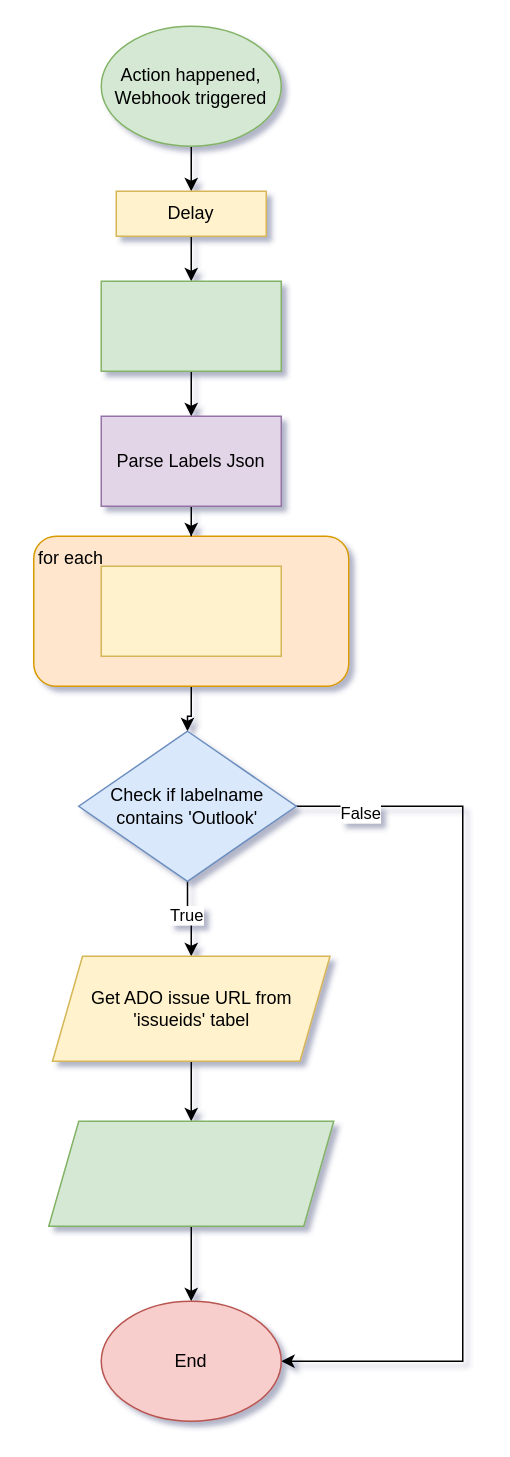
Some shapes in this 510 by 1457 pixel diagram are drawn without their labels. The shapes that lost their labels are listed below. From the top down, each one's centre as x and y in pixels, then its label:
the point at 190,325: Initialize Labelname variable
the point at 190,610: Access labels json Append label names to 'LabelName'
the point at 190,1173: Insert current Issue data in 'dataUpdates' table
